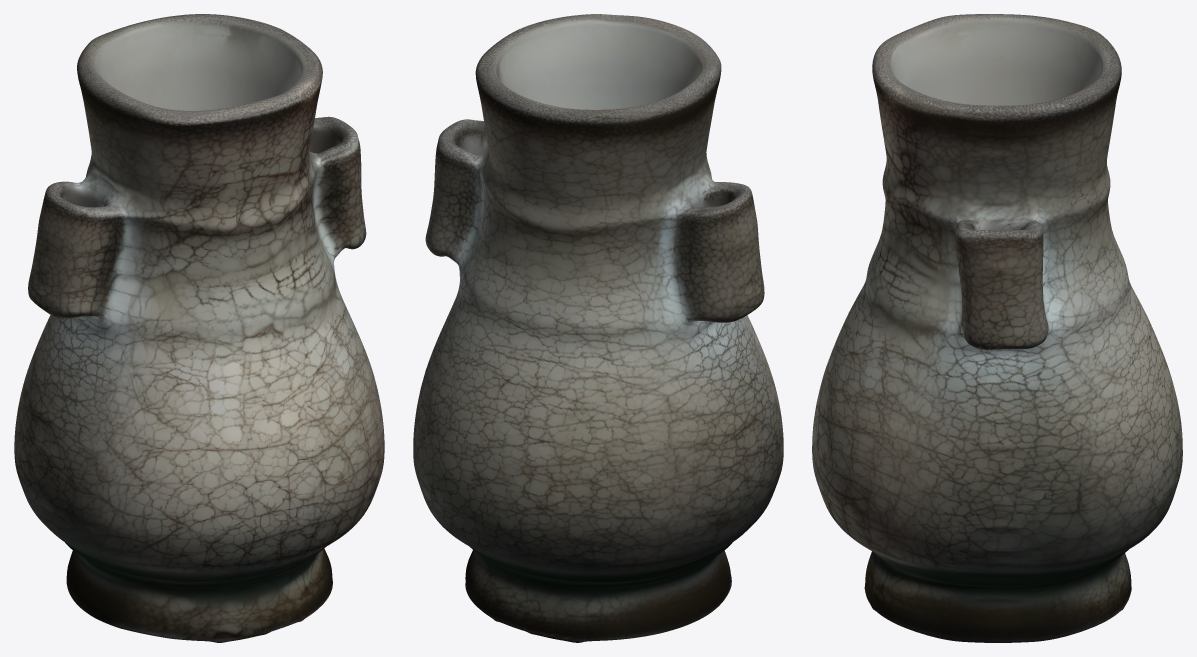
File: geyao.glb
3 renders of one model, left to right at view 1: azimuth 30°, elevation 25°; view 2: azimuth 150°, elevation 25°; view 3: azimuth 270°, elevation 25°, orthographic.
Size of the model in its own units: 0.7022 by 1.09 by 0.6902.
1 material, 1 textured.
